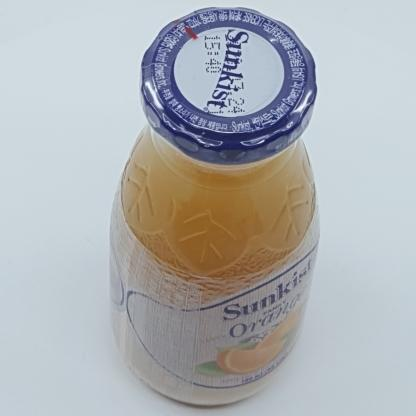----------180ML: (110, 8, 319, 406)
